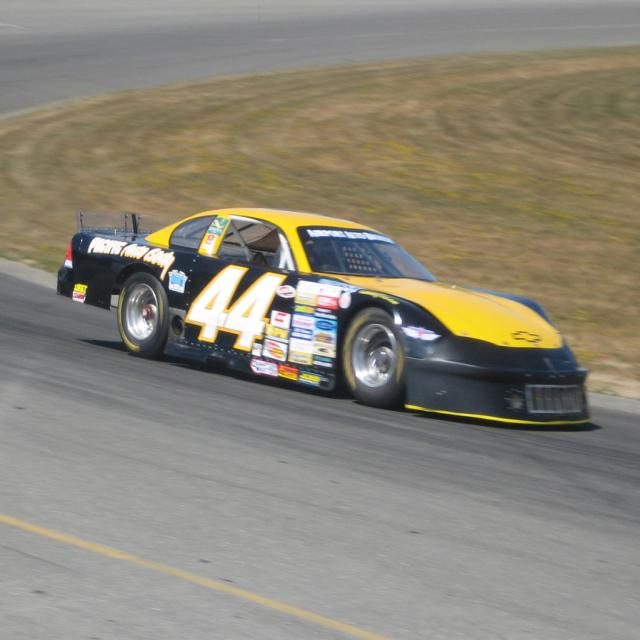car: (56, 205, 590, 425)
